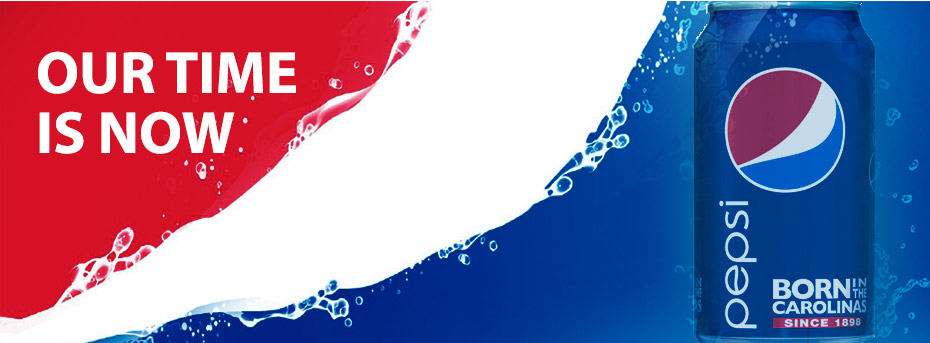pepsi: (720, 63, 847, 191), (720, 67, 847, 191), (725, 63, 847, 191)
